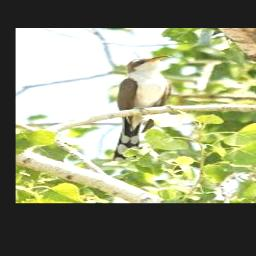Cuckoo: (112, 56, 173, 163)
